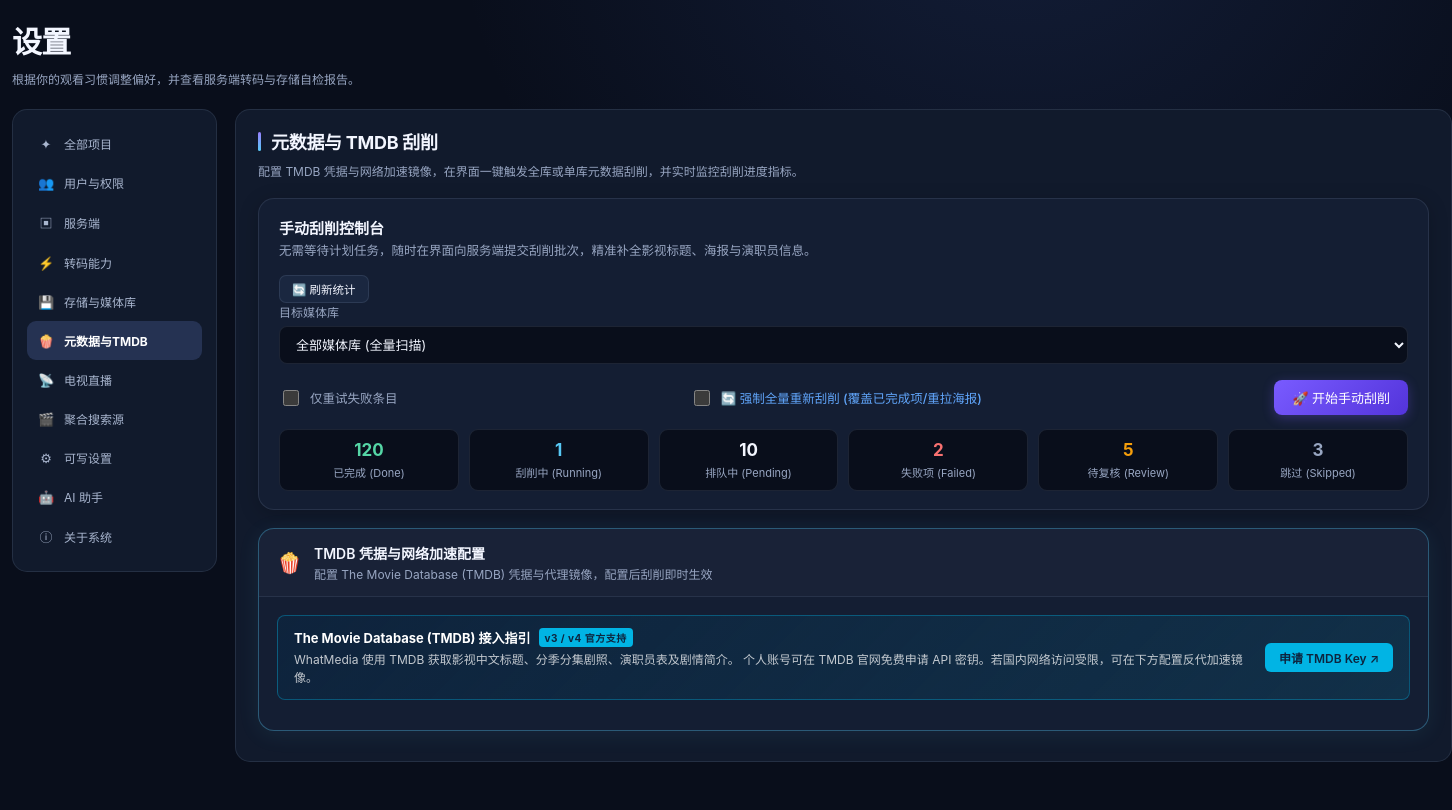
SettingsView › 展示独立的"元数据与TMDB" Tab，支持手动刮削控制台与状态指标展示
Step 1. Click the button with class "btn-start-scan" → (1341, 398), box [1274, 380, 1408, 415]
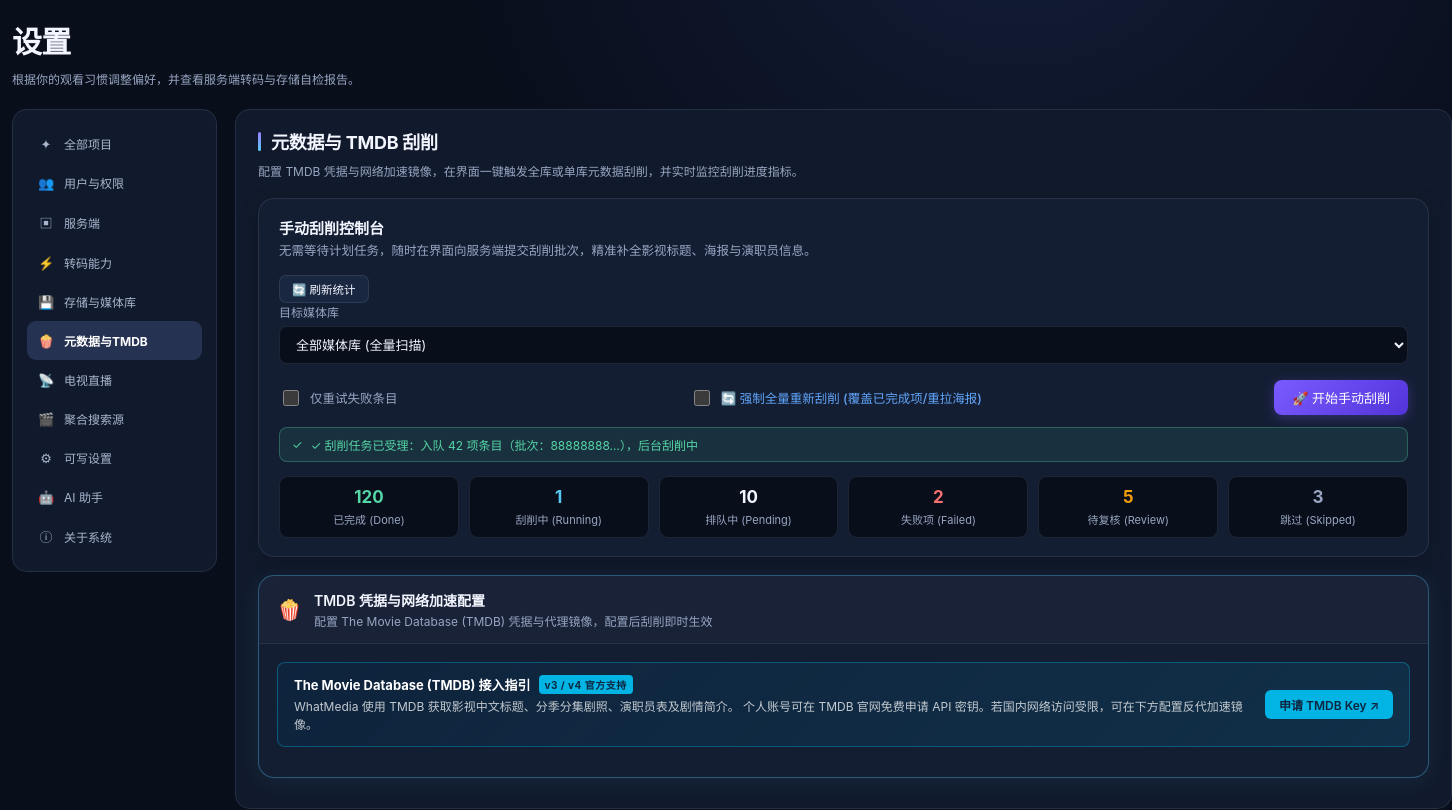
Expected: the text "刮削任务已受理" is shown, [311, 438, 698, 453]
Expected: the text "42 项条目" is shown, [311, 438, 698, 453]
